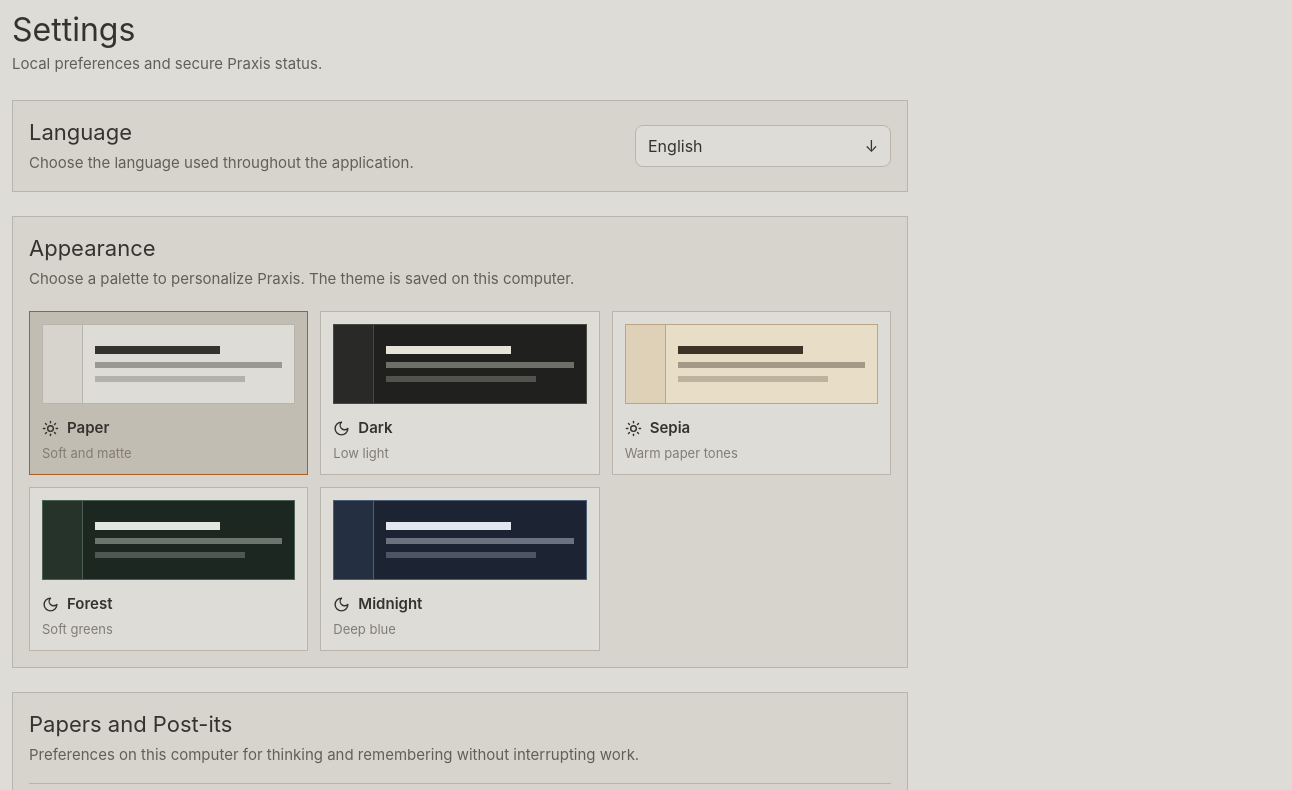
Test: Settings theme chooser › keeps the saved selection and shows a persistence error
Click the button "Sepia Warm paper tones".
click(751, 393)  # box [612,311,891,475]
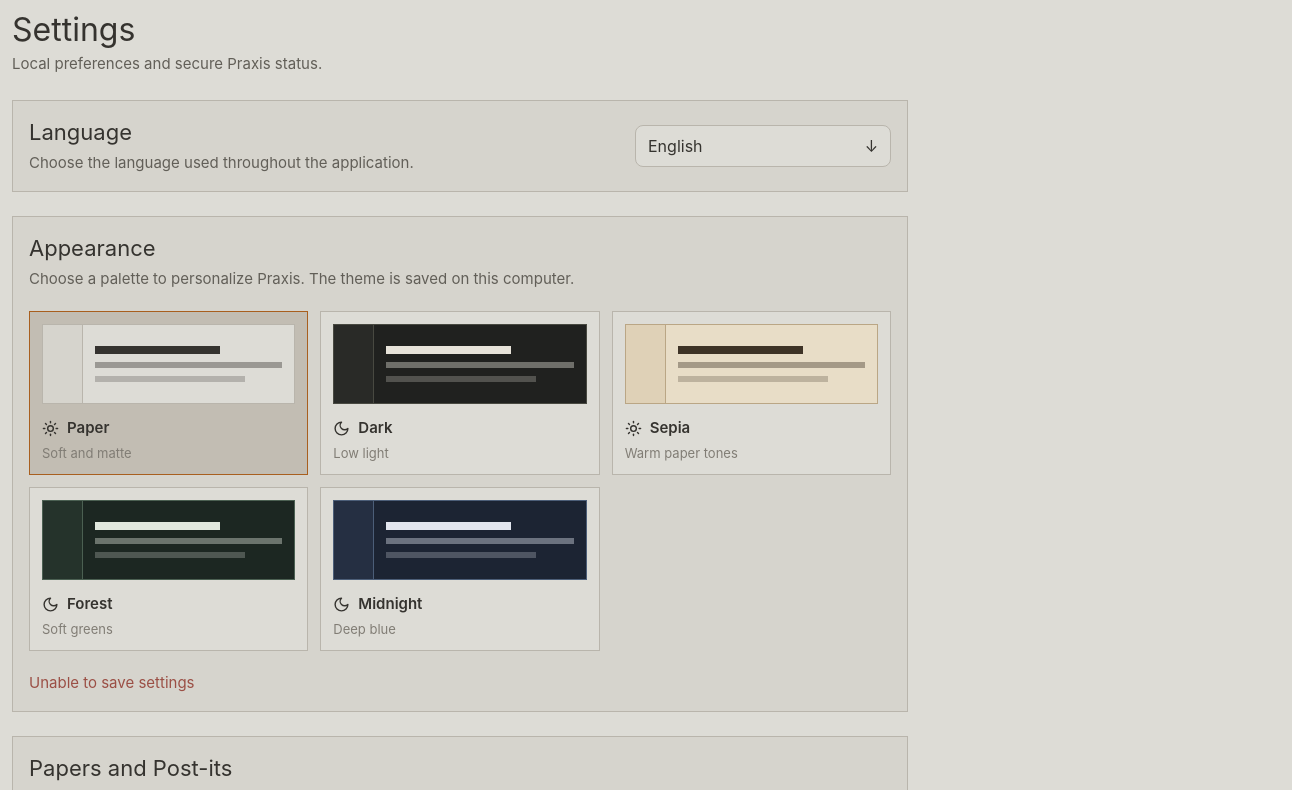
Result: the message "Unable to save settings" is shown at [29,673,194,692]
